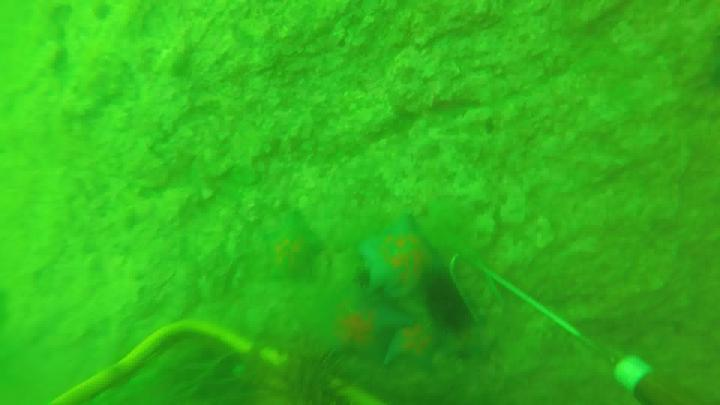holothurian: (366, 222, 446, 296), (334, 284, 402, 364), (267, 213, 324, 281), (386, 315, 448, 372)
starfish: (424, 265, 484, 324)
